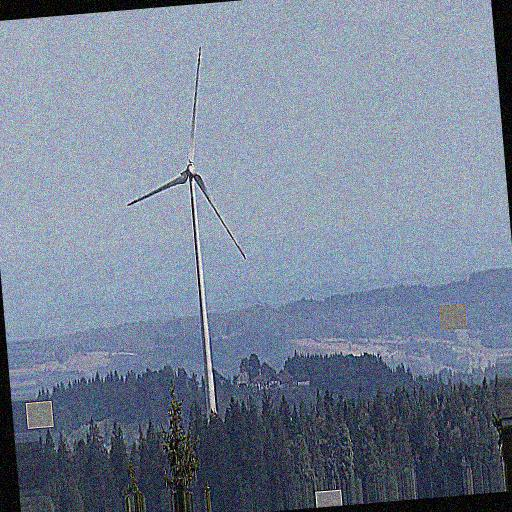wind turbine: (126, 45, 248, 423)
